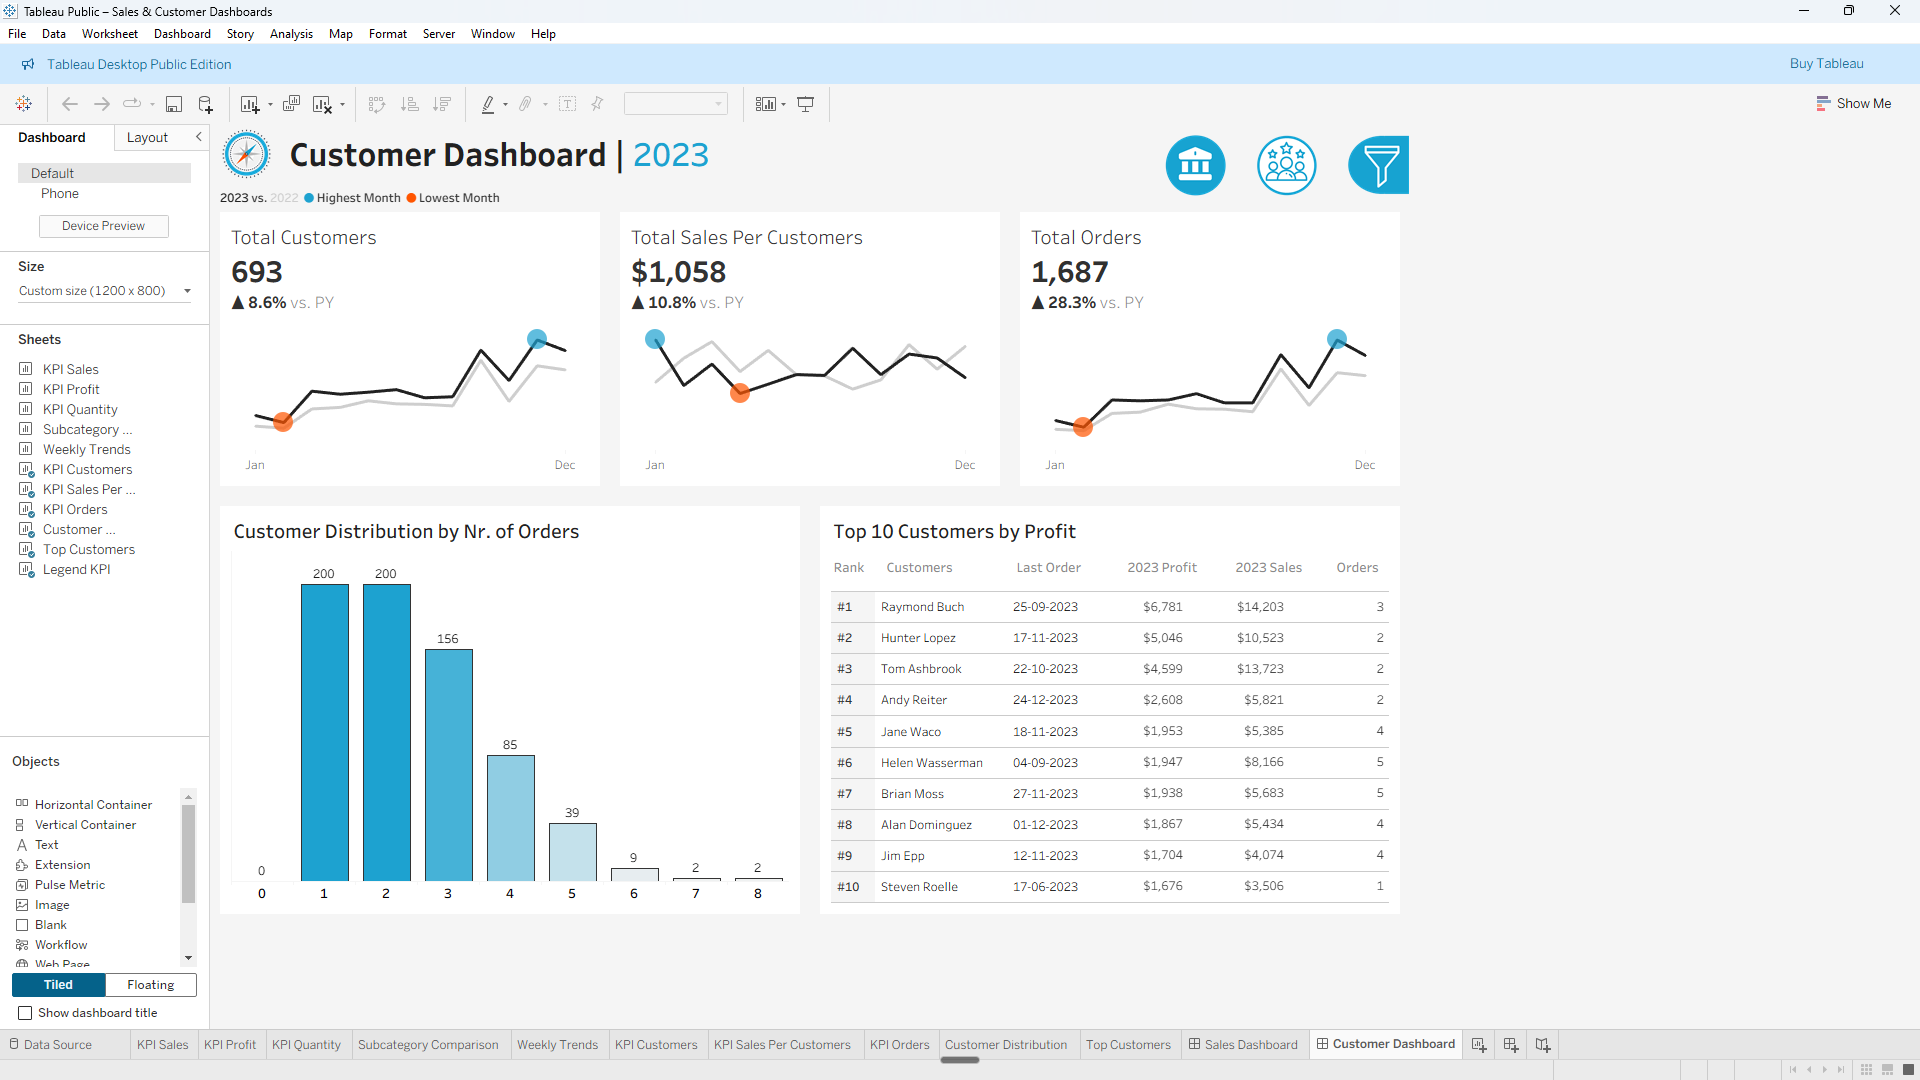

This screenshot's page, from the dashboard's own definition file:
{"tool":"tableau","page":{"name":"Customer Dashboard","canvas":[1200,800],"ordinal":0},"visuals":[{"type":"image","param":"Image/Icon - Logo.png","box":[0,0,73,59]},{"type":"text","box":[73,0,820,59]},{"type":"dashboard-object","box":[940,6,91,70]},{"type":"dashboard-object","box":[1031,6,91,70]},{"type":"blank","box":[952,10,237,86]},{"type":"worksheet","title":"Legend KPI","mark":"Automatic","box":[0,59,1200,29]},{"type":"worksheet","title":"KPI Customers","mark":"Automatic","rows":["Min/Max Quantity (copy)_3221481164588691468"],"cols":["Order Date"],"box":[0,88,400,284]},{"type":"worksheet","title":"KPI Sales Per Customers","mark":"Automatic","rows":["Min/Max Quantity (copy)_3221481164537155591"],"cols":["Order Date"],"box":[400,88,400,284]},{"type":"worksheet","title":"KPI Orders","mark":"Automatic","rows":["Min/Max Sales (copy)_3221481164601258003"],"cols":["Order Date"],"box":[800,88,400,284]},{"type":"text","box":[952,96,237,37]},{"type":"parameter","param":"[Parameters].[Parameter 1]","box":[952,133,237,55]},{"type":"text","box":[952,188,237,32]},{"type":"filter","title":"KPI Customers","param":"[federated.1kpxa041aiai2y1cl4pui1t4eju9].[none:Category:nk]","box":[952,220,237,57]},{"type":"filter","title":"KPI Customers","param":"[federated.1kpxa041aiai2y1cl4pui1t4eju9].[none:Sub-Category:nk]","box":[952,277,237,57]},{"type":"blank","box":[952,334,237,60]},{"type":"text","box":[17,389,566,34]},{"type":"text","box":[617,389,566,34]},{"type":"text","box":[952,394,237,32]},{"type":"worksheet","title":"Customer Distribution","mark":"Bar","rows":["CY Sales (copy)_3221481164532666369"],"cols":["Calculation_998110323739992064"],"box":[17,423,566,360]},{"type":"text","box":[617,423,53,40]},{"type":"text","box":[670,423,130,40]},{"type":"text","box":[800,423,111,40]},{"type":"text","box":[911,423,108,40]},{"type":"text","box":[1019,423,101,40]},{"type":"text","box":[1120,423,63,40]},{"type":"filter","title":"KPI Customers","param":"[federated.1kpxa041aiai2y1cl4pui1t4eju9].[none:Region:nk]","box":[952,426,237,57]},{"type":"worksheet","title":"Top Customers","mark":"Automatic","rows":["Calculation_782500491678904334","Customer Name","Order Date"],"box":[617,463,566,320]},{"type":"filter","title":"KPI Customers","param":"[federated.1kpxa041aiai2y1cl4pui1t4eju9].[none:State:nk]","box":[952,483,237,57]},{"type":"filter","title":"KPI Customers","param":"[federated.1kpxa041aiai2y1cl4pui1t4eju9].[none:City:nk]","box":[952,540,237,57]}]}

Visuals, with their boxes on the page's 1200x800 design canvas (x1, y1, x2, y2). These are canvas units, not pixel positions in the 1920x1080 screenshot, which may show the page scaled, cropped or inside an application window:
image: l=0, t=0, r=73, b=59
text: l=73, t=0, r=893, b=59
dashboard-object: l=940, t=6, r=1031, b=76
dashboard-object: l=1031, t=6, r=1122, b=76
blank: l=952, t=10, r=1189, b=96
"Legend KPI" worksheet: l=0, t=59, r=1200, b=88
"KPI Customers" worksheet: l=0, t=88, r=400, b=372
"KPI Sales Per Customers" worksheet: l=400, t=88, r=800, b=372
"KPI Orders" worksheet: l=800, t=88, r=1200, b=372
text: l=952, t=96, r=1189, b=133
parameter: l=952, t=133, r=1189, b=188
text: l=952, t=188, r=1189, b=220
"KPI Customers" filter: l=952, t=220, r=1189, b=277
"KPI Customers" filter: l=952, t=277, r=1189, b=334
blank: l=952, t=334, r=1189, b=394
text: l=17, t=389, r=583, b=423
text: l=617, t=389, r=1183, b=423
text: l=952, t=394, r=1189, b=426
"Customer Distribution" worksheet (Bar marks): l=17, t=423, r=583, b=783
text: l=617, t=423, r=670, b=463
text: l=670, t=423, r=800, b=463
text: l=800, t=423, r=911, b=463
text: l=911, t=423, r=1019, b=463
text: l=1019, t=423, r=1120, b=463
text: l=1120, t=423, r=1183, b=463
"KPI Customers" filter: l=952, t=426, r=1189, b=483
"Top Customers" worksheet: l=617, t=463, r=1183, b=783
"KPI Customers" filter: l=952, t=483, r=1189, b=540
"KPI Customers" filter: l=952, t=540, r=1189, b=597
